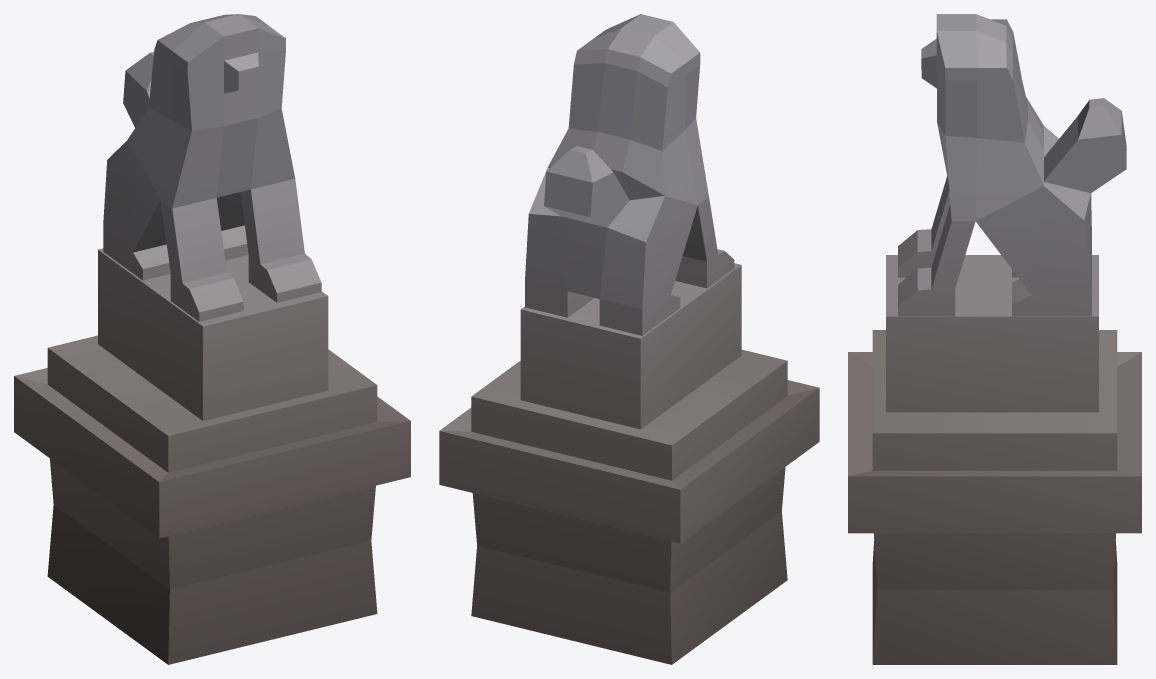
Rendered from Komainu.fbx.
3 renders of one model, left to right at view 1: azimuth 30°, elevation 25°; view 2: azimuth 150°, elevation 25°; view 3: azimuth 270°, elevation 25°, orthographic. The views are drawn at different scales.
Parts seen in each view (by area): view 1: Komainu; view 2: Komainu; view 3: Komainu.
Boxes of the visible parts, box(x1,y1,x2,y2) form: Komainu: box(14, 14, 410, 664); Komainu: box(439, 14, 819, 664); Komainu: box(848, 14, 1141, 664).
Size of the model in its own units: 124 by 274 by 124.
